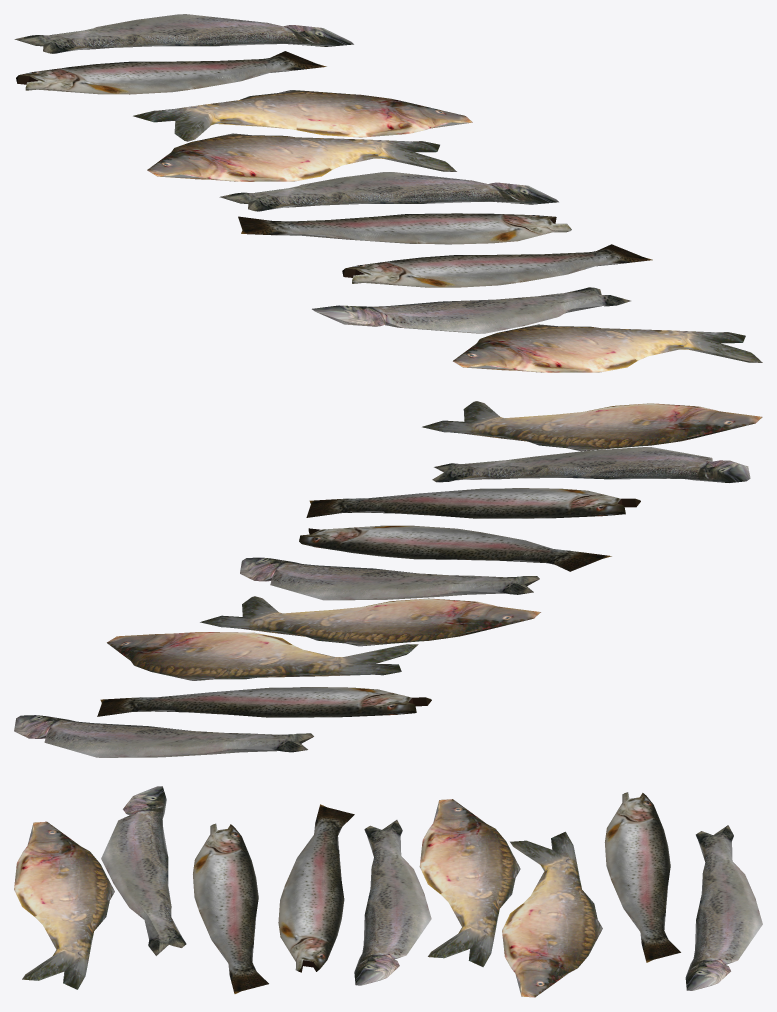
File: fish_booth01_LOD02.fbx
3 views of the same model, one above another, from view 1: azimuth 30°, elevation 25°; view 2: azimuth 150°, elevation 25°; view 3: azimuth 270°, elevation 25° (orthographic). The views are drawn at different scales.
Visible parts, largest first — view 1: Mesh Object; view 2: Mesh Object; view 3: Mesh Object.
Boxes of the visible parts, box(x1,y1,x2,y2) form: Mesh Object: box(14, 14, 762, 372); Mesh Object: box(14, 401, 762, 757); Mesh Object: box(14, 786, 762, 997).
Bounding box in the file's own units: 0.7984 × 0.158 × 1.7.
